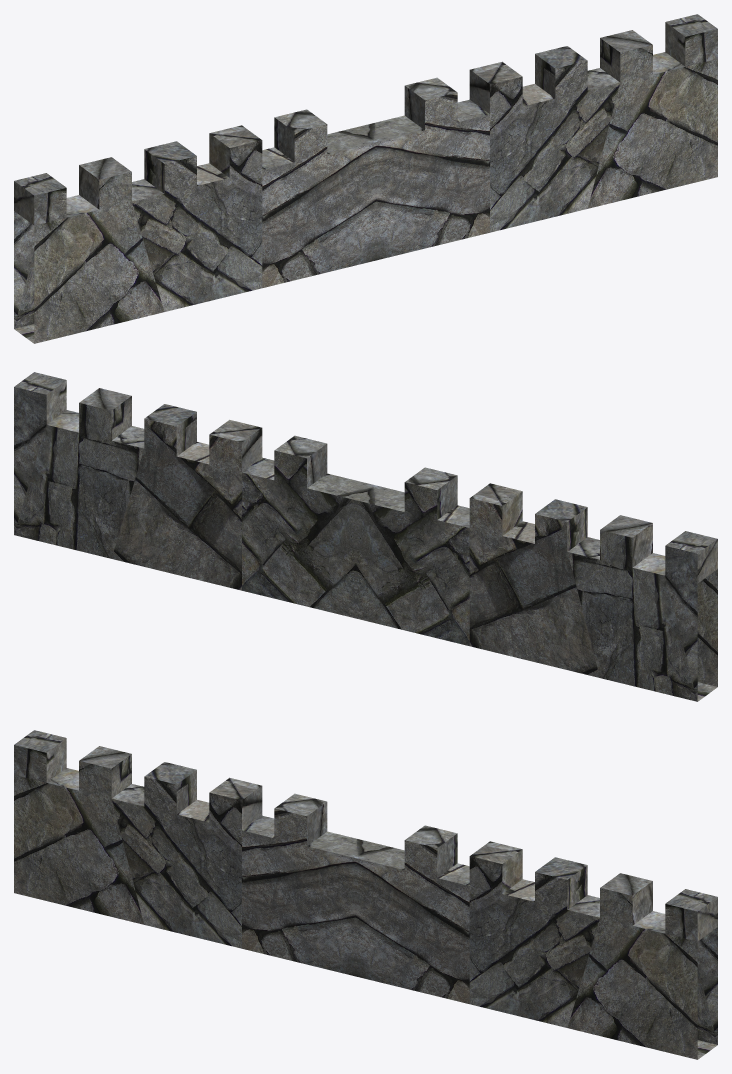
File: Wall Anim.fbx
3 renders of one model, top to bottom at view 1: azimuth 30°, elevation 25°; view 2: azimuth 150°, elevation 25°; view 3: azimuth 330°, elevation 25°, orthographic.
Visible parts, largest first — view 1: Wall:Mesh; view 2: Wall:Mesh; view 3: Wall:Mesh.
Boxes of the visible parts, x1,y1,x2,y2 form: Wall:Mesh: (14,14,717,343); Wall:Mesh: (14,372,717,701); Wall:Mesh: (14,730,717,1059).
Bounding box in the file's own units: 1.22 × 0.2532 × 0.0628.
